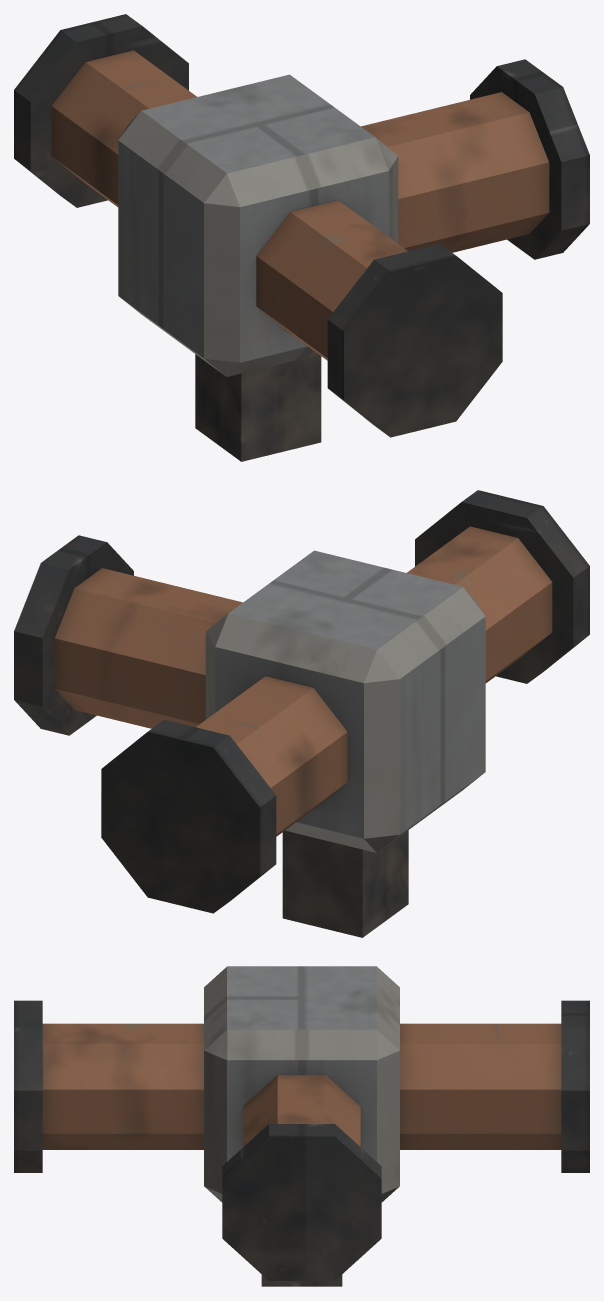
The model's file is cano_t.glb.
The picture shows the model from 3 angles, top to bottom: view 1: azimuth 30°, elevation 25°; view 2: azimuth 150°, elevation 25°; view 3: azimuth 270°, elevation 25°; orthographic projection. The views are drawn at different scales.
Visible parts, largest first — view 1: cano_t; view 2: cano_t; view 3: cano_t.
Boxes of the visible parts, x1=… form: cano_t: x1=14, y1=14, x2=589, y2=461; cano_t: x1=14, y1=490, x2=589, y2=937; cano_t: x1=14, y1=966, x2=589, y2=1286.
Size of the model in its own units: 0.67 by 0.52 by 1.
1 material, 1 textured.
